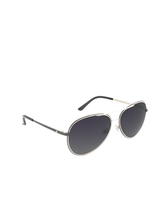glasses: (19, 93, 153, 165)
